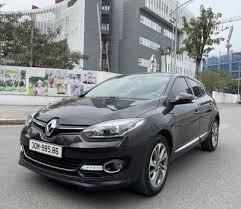Bien-so: (26, 133, 58, 152)
